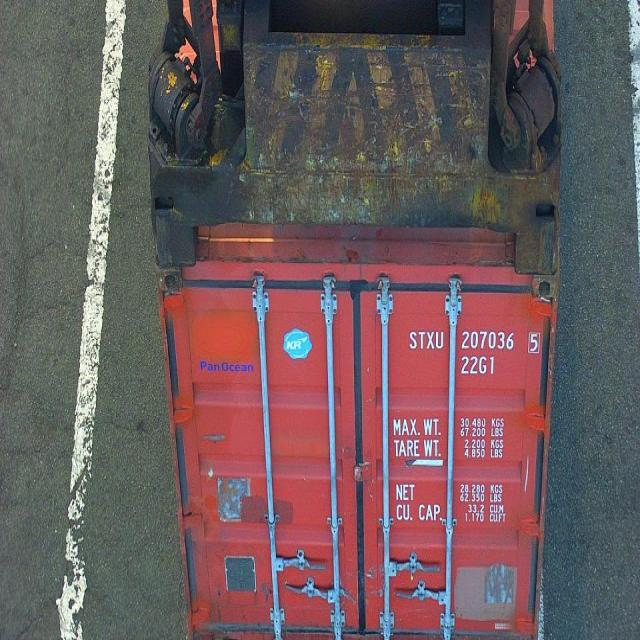ISO: (459, 354, 497, 374)
container_number: (408, 328, 538, 351)
